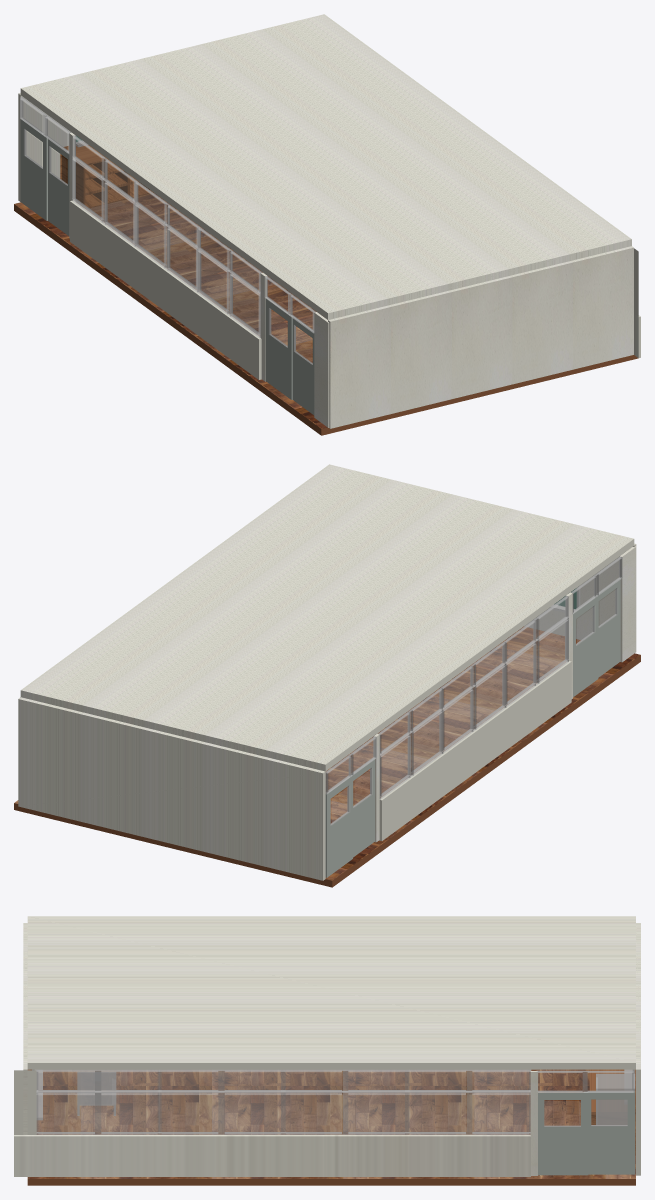
File: classroom_light.glb
The picture shows the model from 3 angles, top to bottom: view 1: azimuth 30°, elevation 25°; view 2: azimuth 150°, elevation 25°; view 3: azimuth 270°, elevation 25°; orthographic projection.
Visible parts, largest first — view 1: ceiling, wall_F, floor, window.016, wall_R, door_frrame.003, window_frame.016, shelf, door_window.006, wall_B, 立方体.008, 立方体.007 (+1 smaller); view 2: ceiling, wall_B, floor, window.016, wall_R, door_frrame.003, window_frame.016, wall_F, door_window.006, 立方体.008; view 3: ceiling, floor, window.016, wall_L, window_frame.016, door_frrame.003, door_window.006, cleaning, podium, wall_B, wall_F, 立方体.002 (+1 smaller).
Part boxes in pixels (x1,y1,x2,y2): ceiling: [20, 14, 631, 319]; wall_F: [328, 246, 633, 428]; floor: [14, 193, 638, 435]; window.016: [20, 99, 312, 334]; wall_R: [70, 200, 261, 379]; door_frrame.003: [20, 119, 314, 415]; window_frame.016: [20, 97, 315, 338]; shelf: [60, 145, 153, 208]; door_window.006: [23, 130, 311, 364]; wall_B: [18, 93, 71, 201]; 立方体.008: [314, 312, 329, 427]; 立方体.007: [260, 273, 267, 381]; ceiling: [20, 464, 634, 771]; wall_B: [18, 697, 325, 880]; floor: [14, 626, 640, 887]; window.016: [327, 560, 619, 796]; wall_R: [379, 661, 571, 840]; door_frrame.003: [325, 578, 620, 877]; window_frame.016: [20, 556, 622, 799]; wall_F: [525, 543, 636, 639]; door_window.006: [332, 589, 617, 824]; 立方体.008: [620, 546, 636, 662]; ceiling: [27, 916, 635, 1069]; floor: [27, 1069, 635, 1185]; window.016: [38, 1071, 631, 1133]; wall_L: [14, 1070, 530, 1176]; window_frame.016: [36, 1069, 633, 1134]; door_frrame.003: [538, 1091, 635, 1175]; door_window.006: [544, 1100, 627, 1126]; cleaning: [596, 1073, 635, 1124]; podium: [77, 1071, 116, 1115]; wall_B: [636, 923, 640, 1175]; wall_F: [23, 923, 27, 1134]; 立方体.002: [530, 1071, 537, 1175].
Bounding box in the file's own units: 14.62 × 5.32 × 25.29.
11 materials, 4 textured.
